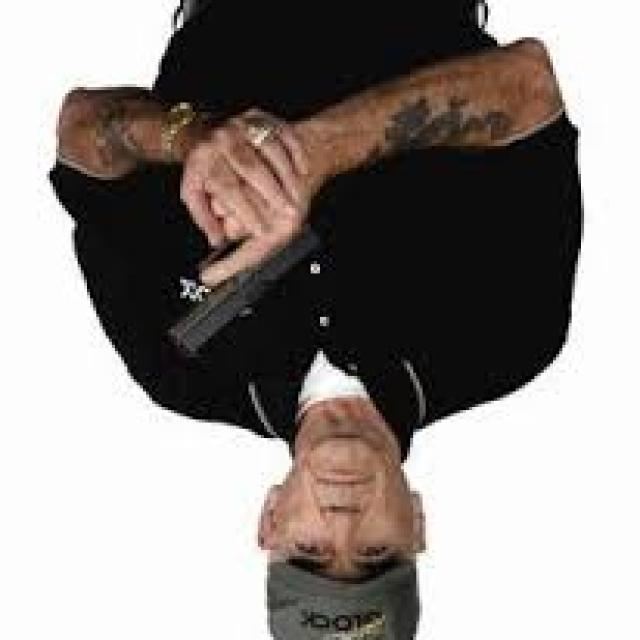gun: (144, 186, 340, 372)
